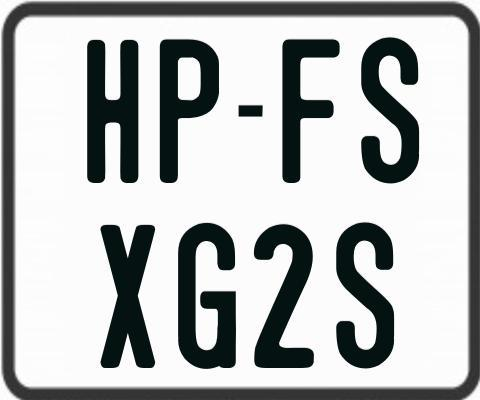2: (252, 221, 318, 368)
F: (281, 38, 344, 186)
G: (175, 222, 236, 372)
H: (84, 38, 141, 186)
P: (157, 37, 216, 185)
S: (358, 34, 420, 184), (336, 220, 397, 368)
X: (101, 225, 160, 372)
